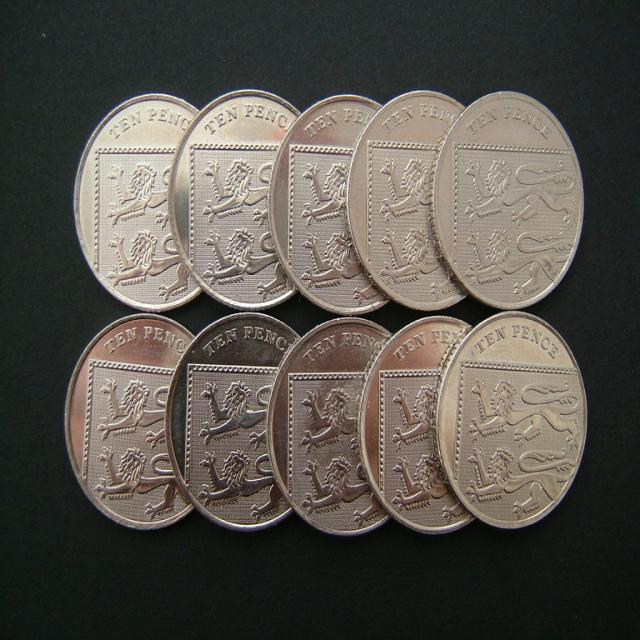Coin: (437, 311, 588, 532), (439, 86, 582, 316), (163, 311, 301, 534), (62, 311, 196, 533), (167, 87, 300, 306), (72, 92, 200, 307), (266, 319, 390, 537), (347, 87, 464, 315), (268, 92, 382, 313), (357, 315, 471, 534)
